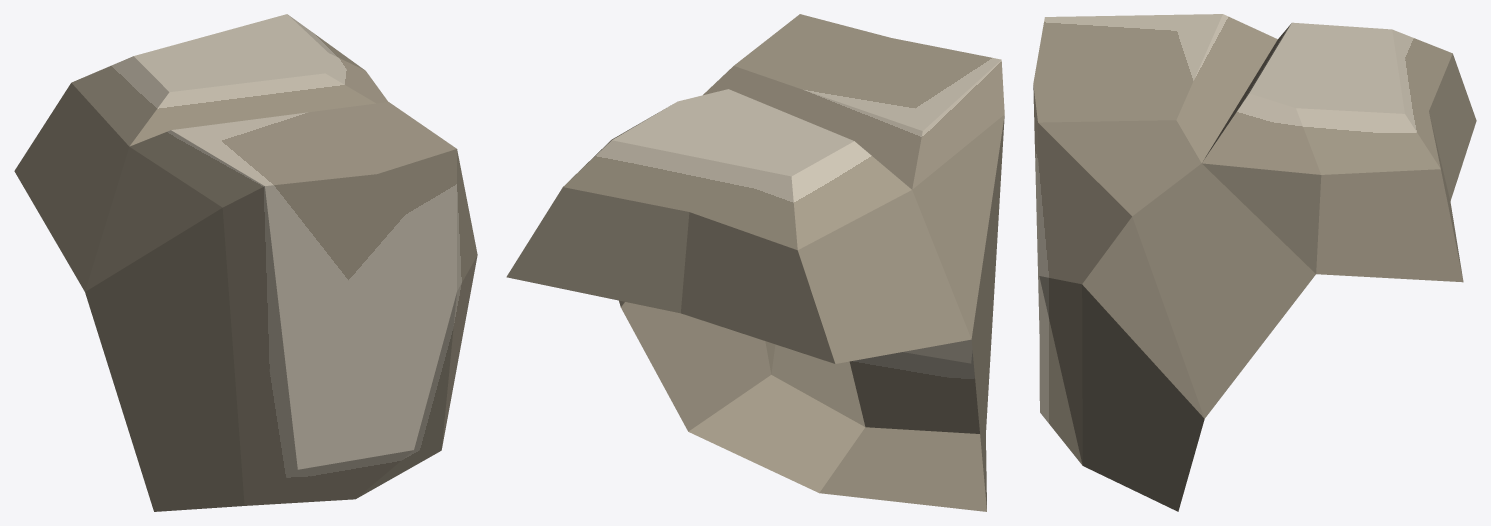
File: Rock_07.fbx
The picture shows the model from 3 angles, left to right: view 1: azimuth 30°, elevation 25°; view 2: azimuth 150°, elevation 25°; view 3: azimuth 270°, elevation 25°; orthographic projection. The views are drawn at different scales.
Parts seen in each view (by area): view 1: Rock_07; view 2: Rock_07; view 3: Rock_07.
Part boxes in pixels (x1,y1,x2,y2): Rock_07: (14,14,477,511); Rock_07: (506,14,1004,511); Rock_07: (1033,14,1476,511).
Size of the model in its own units: 52.93 by 55.23 by 53.95.
1 material, 1 textured.
